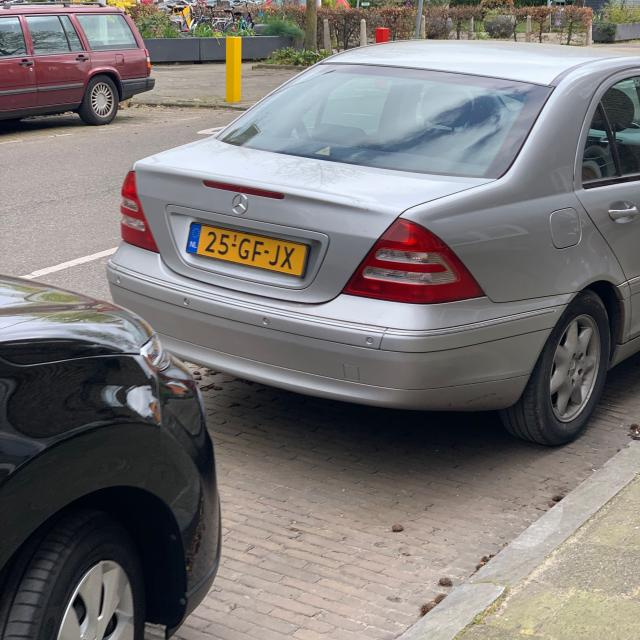plate: (184, 220, 310, 278)
